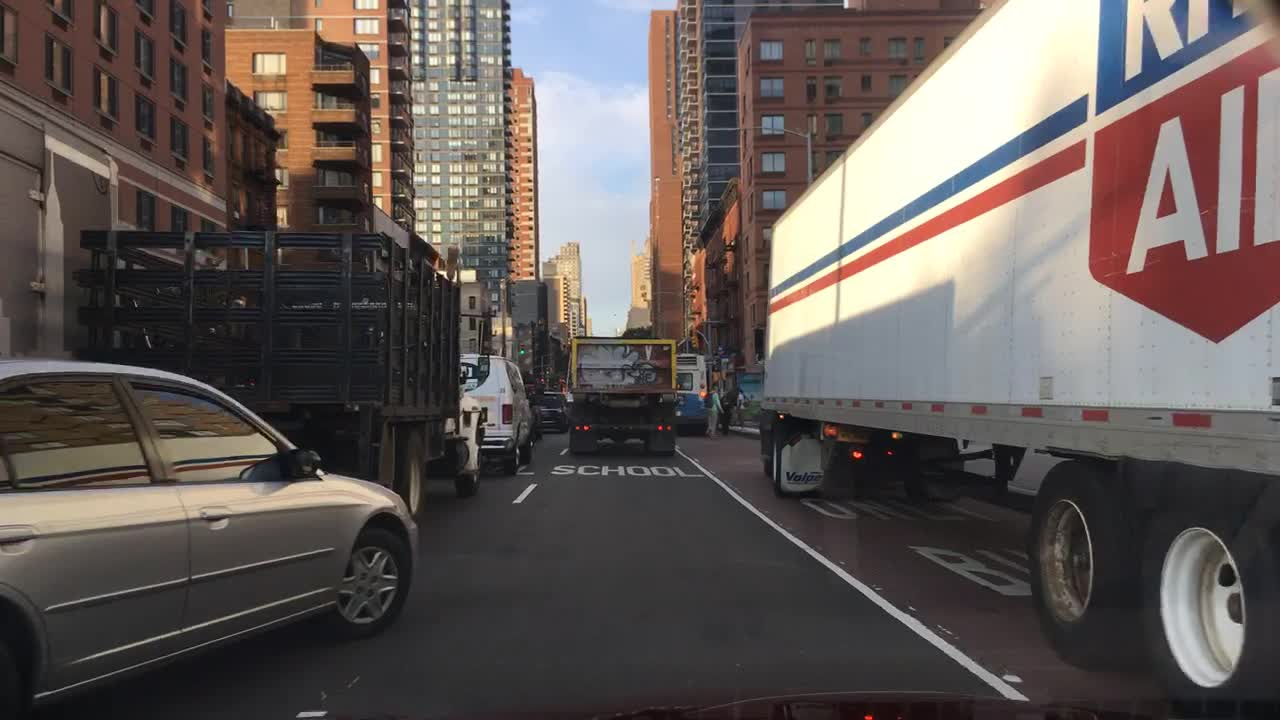bus: (561, 334, 679, 458), (672, 349, 710, 436)
car: (0, 352, 422, 717), (457, 348, 536, 473), (530, 385, 571, 434)
person: (705, 378, 726, 443), (720, 386, 739, 437), (733, 385, 751, 431)
truck: (756, 1, 1278, 717), (71, 217, 491, 518)
